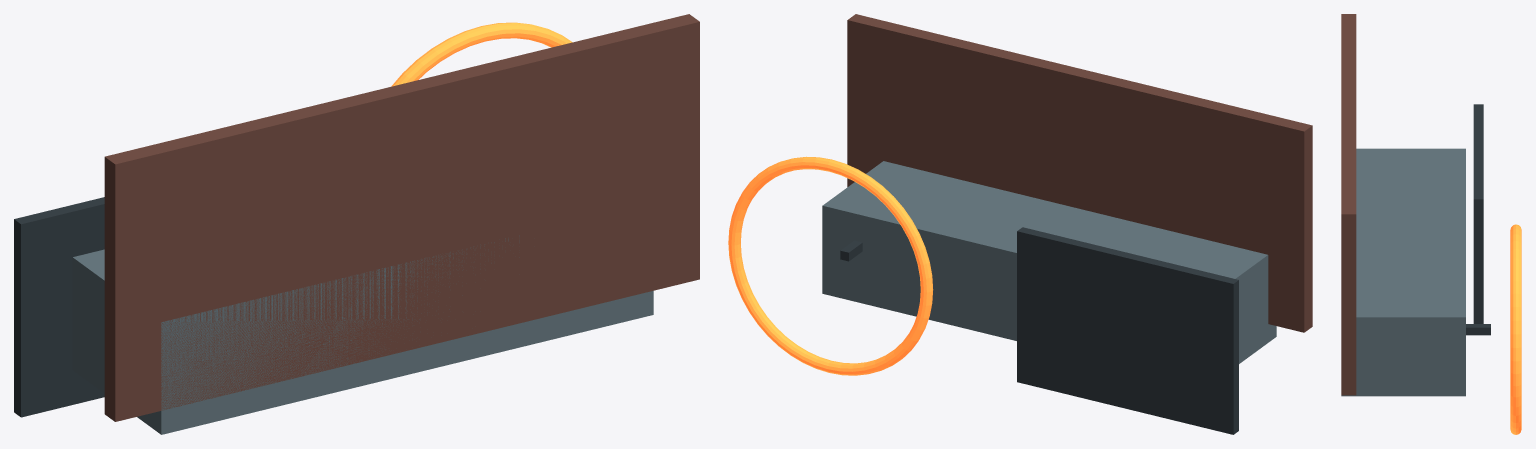
File: rainline_waterfront_civic_v1.glb
The picture shows the model from 3 angles, left to right: view 1: azimuth 30°, elevation 25°; view 2: azimuth 150°, elevation 25°; view 3: azimuth 270°, elevation 25°; orthographic projection. The views are drawn at different scales.
Visible parts, largest first — view 1: Pier, WaterfrontHall, CivicCanopy, ObservationWheel; view 2: Pier, WaterfrontHall, CivicCanopy, ObservationWheel; view 3: WaterfrontHall, Pier, ObservationWheel, CivicCanopy, WheelSupport.
Part boxes in pixels (box(x1,y1,x2,y2)): Pier: box(104, 14, 699, 421); WaterfrontHall: box(72, 235, 653, 434); CivicCanopy: box(14, 197, 104, 417); ObservationWheel: box(391, 22, 572, 86); Pier: box(847, 14, 1312, 332); WaterfrontHall: box(822, 161, 1276, 363); CivicCanopy: box(1017, 227, 1238, 434); ObservationWheel: box(728, 156, 933, 375); WaterfrontHall: box(1341, 148, 1465, 396); Pier: box(1341, 14, 1356, 395); ObservationWheel: box(1510, 224, 1521, 434); CivicCanopy: box(1473, 104, 1483, 323); WheelSupport: box(1466, 324, 1490, 335).
Size of the model in its own units: 40.45 by 21.45 by 14.45.
